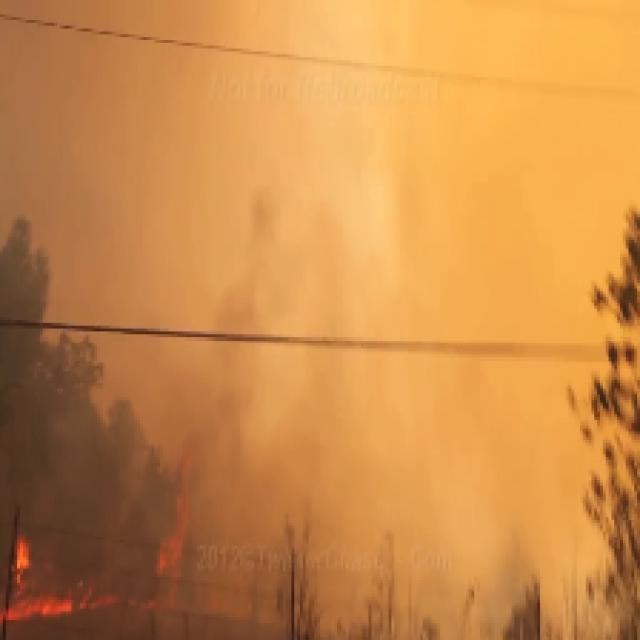Fire: (22, 460, 218, 623)
Smoke: (235, 306, 392, 514)
